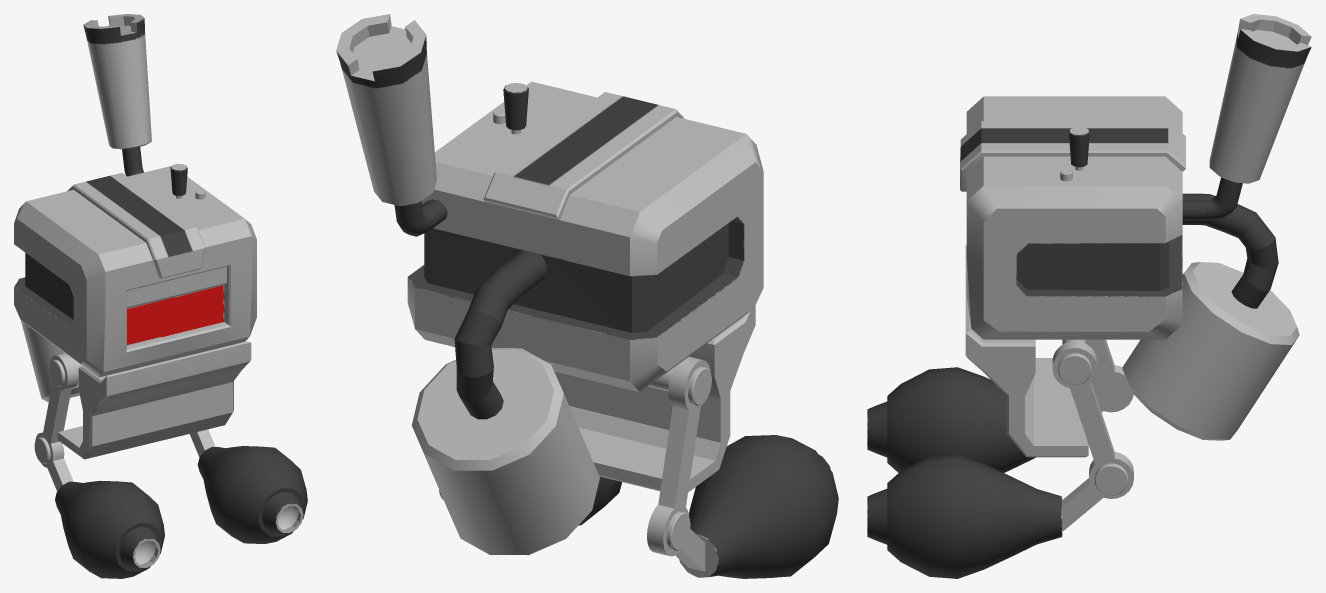
The model's file is enemi_20191025.fbx.
3 views of the same model, side by side, from view 1: azimuth 30°, elevation 25°; view 2: azimuth 150°, elevation 25°; view 3: azimuth 270°, elevation 25° (orthographic). The views are drawn at different scales.
Visible parts, largest first — view 1: pCylinder4; view 2: pCylinder4; view 3: pCylinder4.
Boxes of the visible parts, <box> form: pCylinder4: <box>14,14,307,578</box>; pCylinder4: <box>336,14,838,578</box>; pCylinder4: <box>867,14,1311,578</box>.
Size of the model in its own units: 14.69 by 26.51 by 19.71.
Materials: 1 (1 with a texture image).
